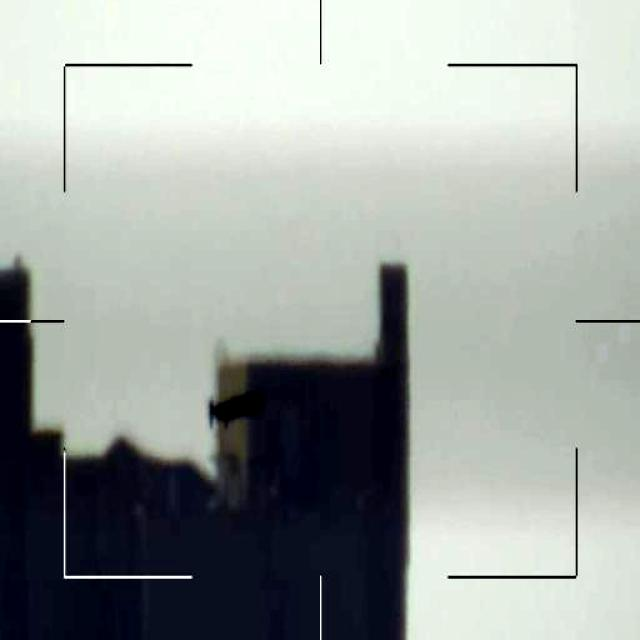bird: (206, 385, 269, 431)
